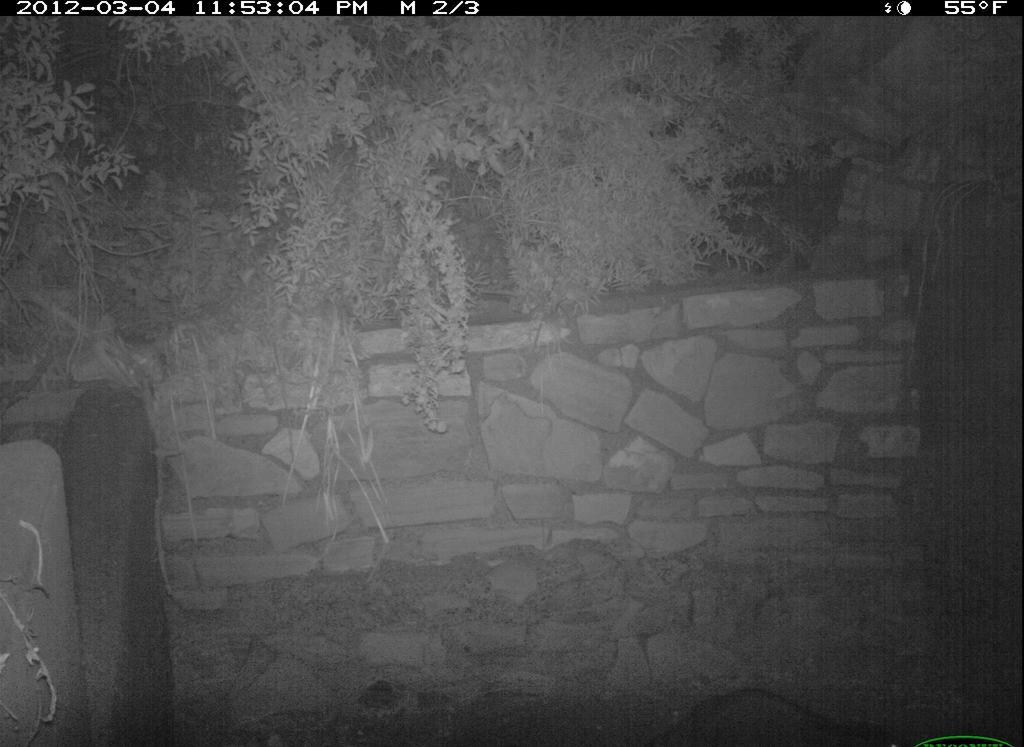raccoon: (655, 687, 909, 747)
